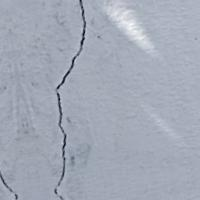crack: (30, 0, 113, 199)
